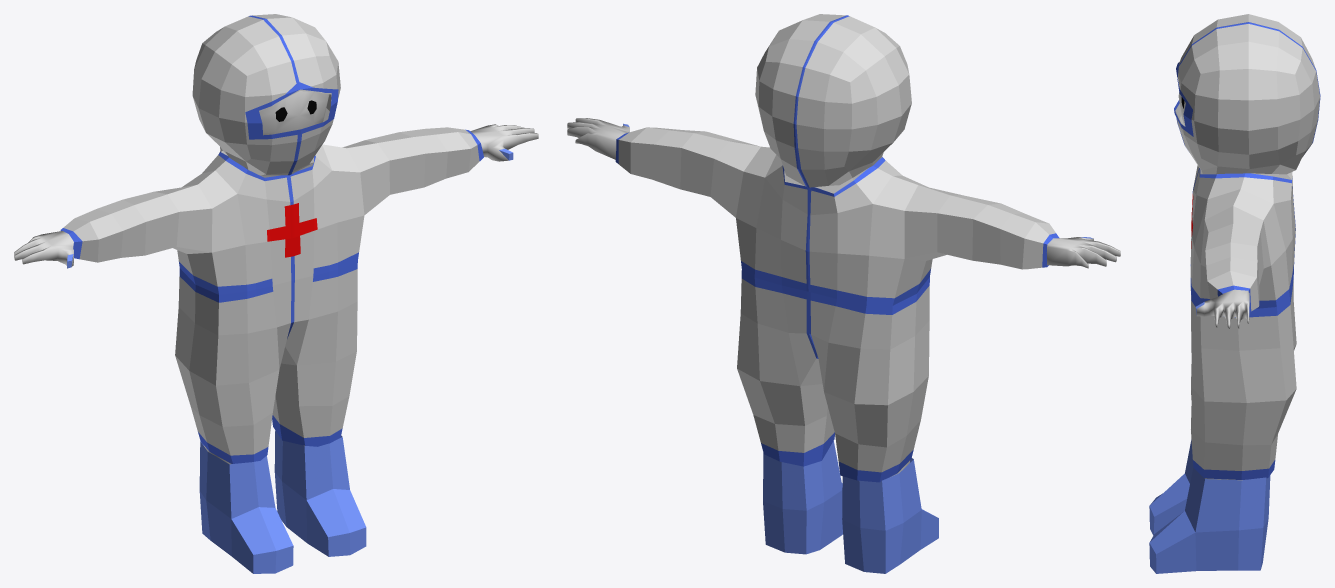
Rendered from doctor2.fbx.
3 renders of one model, left to right at view 1: azimuth 30°, elevation 25°; view 2: azimuth 150°, elevation 25°; view 3: azimuth 270°, elevation 25°, orthographic. The views are drawn at different scales.
Visible parts, largest first — view 1: Cube.001, Cube.004, Cube, Cube.002; view 2: Cube.001, Cube.004, Cube; view 3: Cube.001, Cube.004, Cube, Cube.002.
Boxes of the visible parts, box(x1,y1,x2,y2) form: Cube.001: box(60, 14, 483, 463); Cube.004: box(199, 430, 366, 573); Cube: box(14, 91, 538, 464); Cube.002: box(245, 81, 338, 139); Cube.001: box(615, 14, 1059, 482); Cube.004: box(763, 441, 938, 573); Cube: box(567, 118, 1120, 476); Cube.001: box(1175, 14, 1320, 479); Cube.004: box(1149, 439, 1270, 573); Cube: box(1178, 92, 1249, 480); Cube.002: box(1174, 62, 1193, 136).
Bounding box in the file's own units: 629 × 593 × 174.
